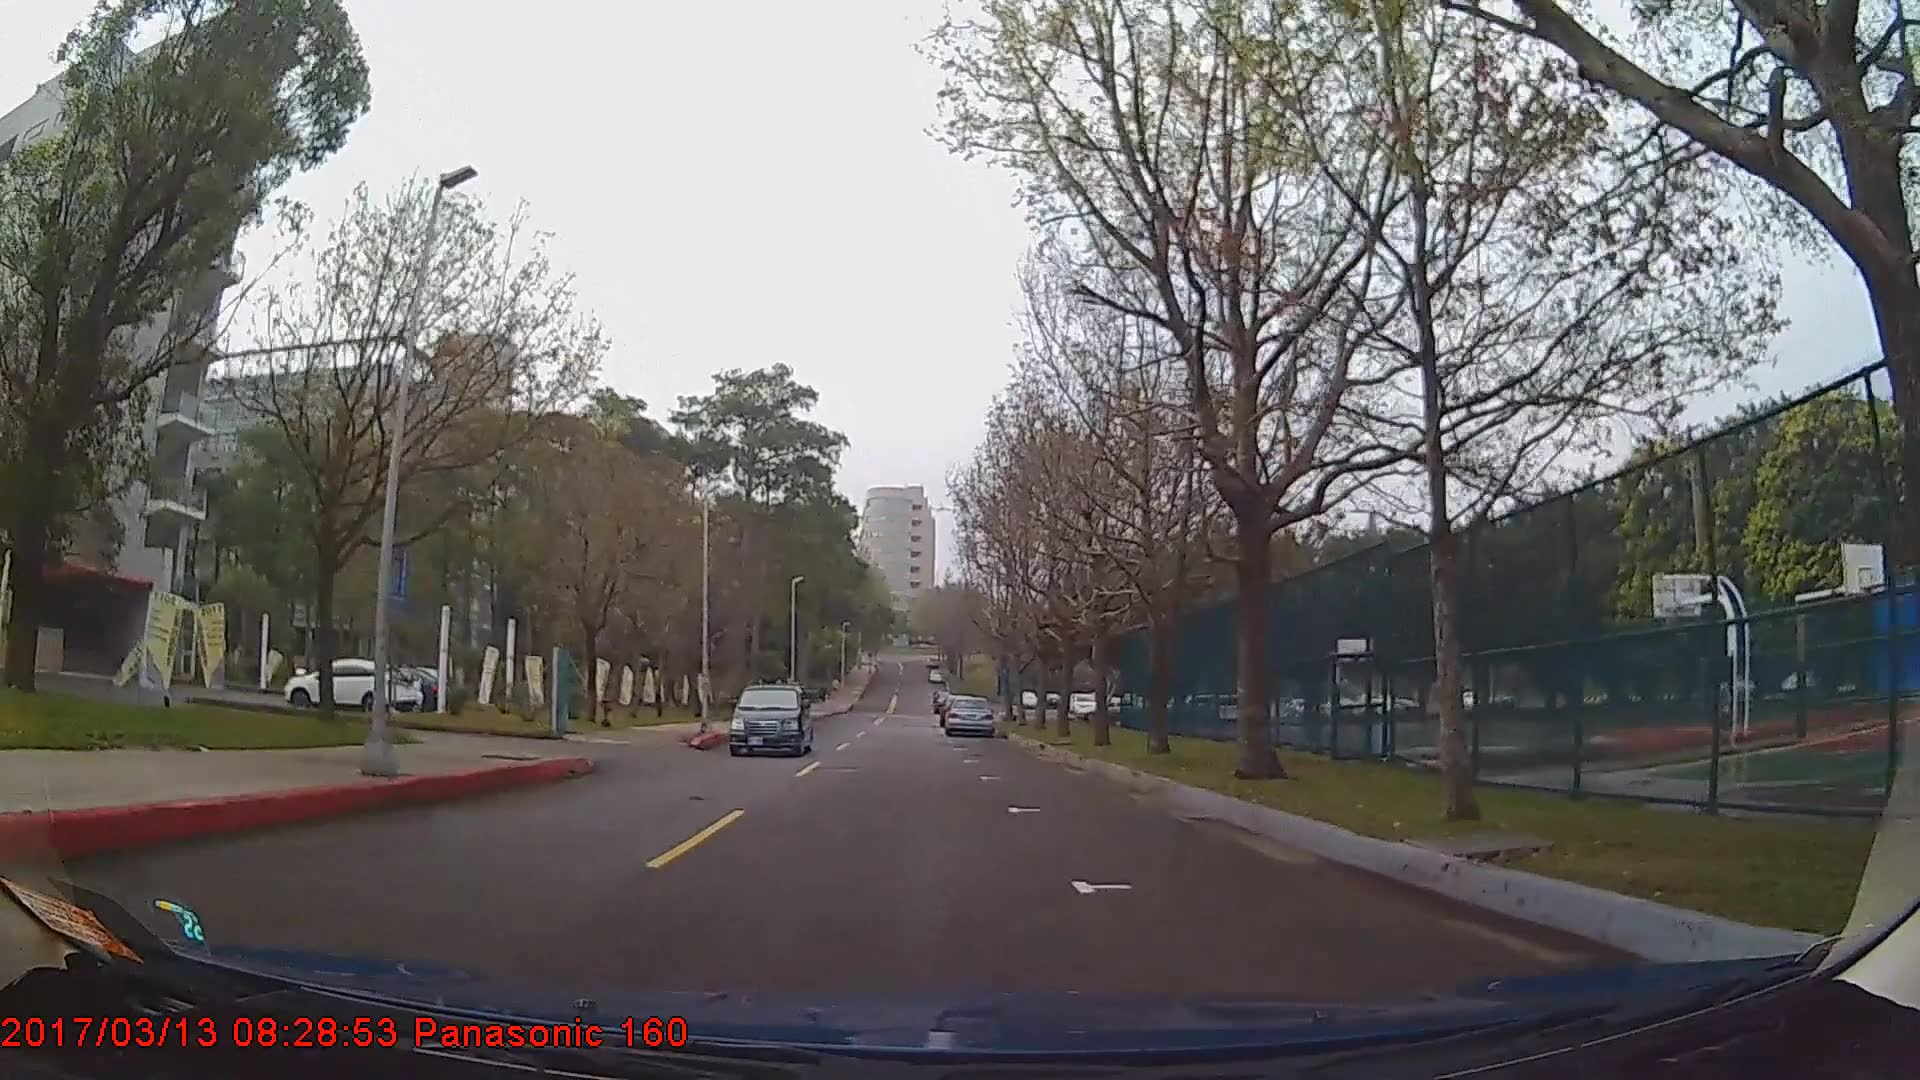vehicle: (282, 655, 419, 713), (728, 683, 815, 758), (943, 698, 994, 741)
